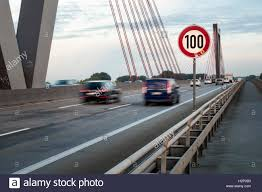Speed_limit_100km: (178, 25, 210, 58)
